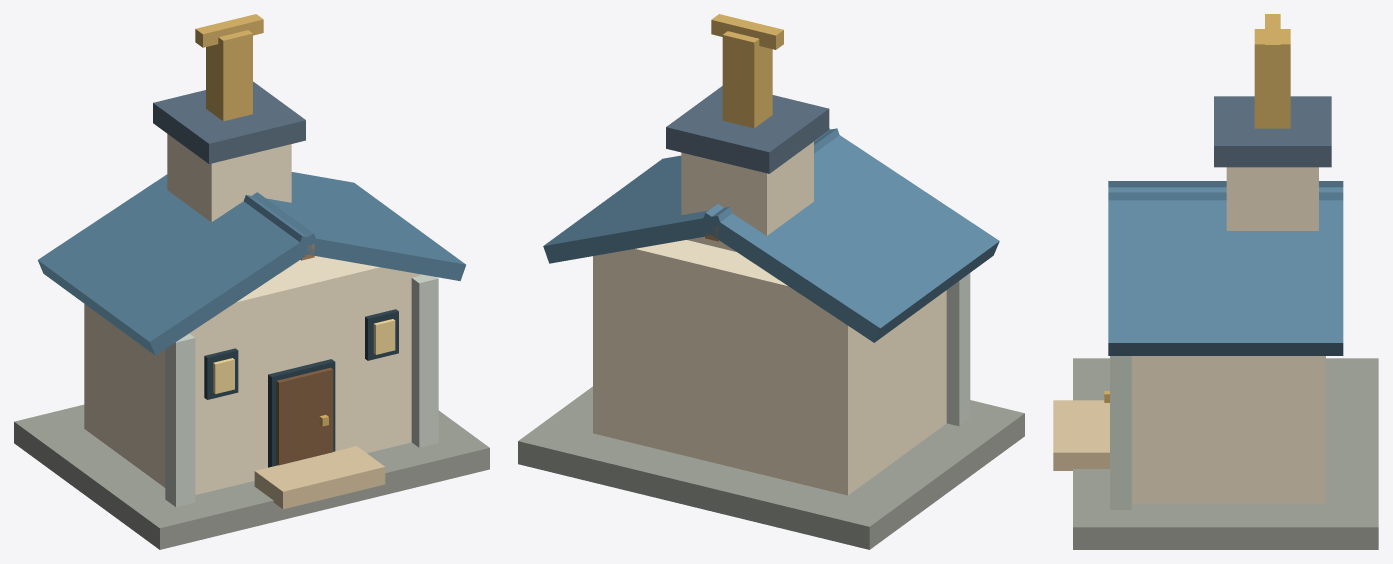
The model's file is academy.glb.
3 views of the same model, side by side, from view 1: azimuth 30°, elevation 25°; view 2: azimuth 150°, elevation 25°; view 3: azimuth 270°, elevation 25° (orthographic). The views are drawn at different scales.
Bounding box in the file's own units: 2.55 × 3.07 × 2.08.
